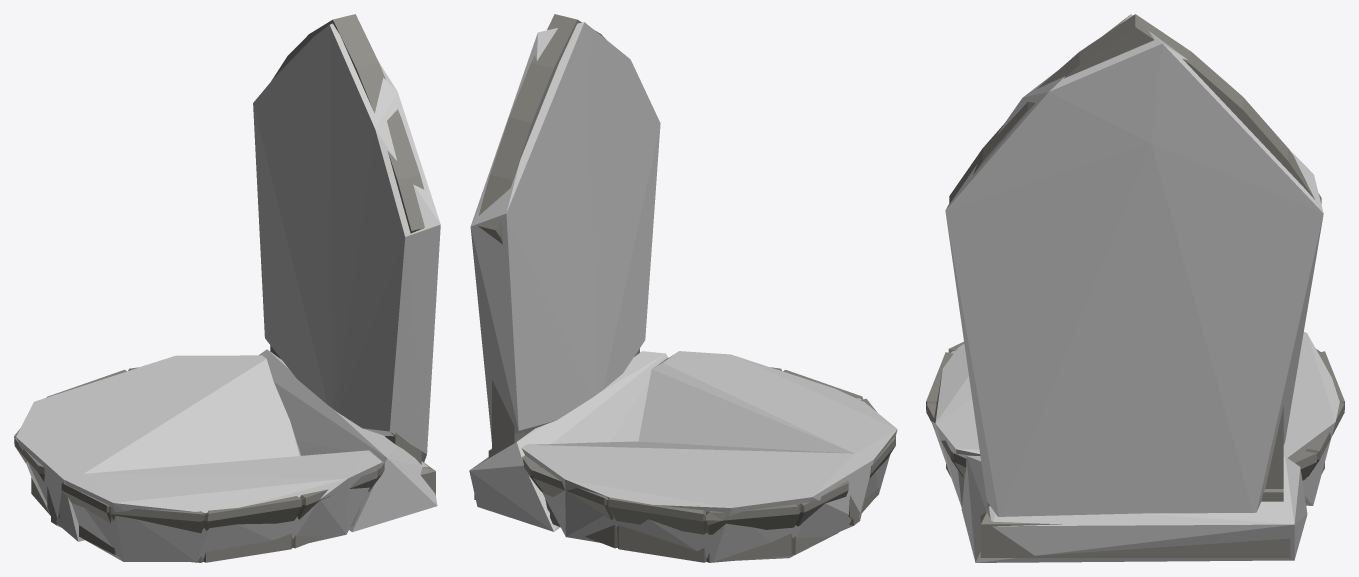
Rendered from SM_Prop_Magic_Well_01.fbx.
3 views of the same model, side by side, from view 1: azimuth 30°, elevation 25°; view 2: azimuth 150°, elevation 25°; view 3: azimuth 270°, elevation 25° (orthographic). The views are drawn at different scales.
Parts seen in each view (by area): view 1: SM_Prop_Magic_Well_01_ConvexHulls, SM_Prop_Magic_Well_01; view 2: SM_Prop_Magic_Well_01_ConvexHulls, SM_Prop_Magic_Well_01; view 3: SM_Prop_Magic_Well_01_ConvexHulls, SM_Prop_Magic_Well_01.
Part boxes in pixels (x1,y1,x2,y2): SM_Prop_Magic_Well_01_ConvexHulls: (16,23,440,561); SM_Prop_Magic_Well_01: (14,14,435,562); SM_Prop_Magic_Well_01_ConvexHulls: (469,22,897,561); SM_Prop_Magic_Well_01: (474,14,895,562); SM_Prop_Magic_Well_01_ConvexHulls: (931,14,1339,562); SM_Prop_Magic_Well_01: (926,14,1344,557).
Bounding box in the file's own units: 230 × 218 × 304.
Materials: 2 (1 with a texture image).
